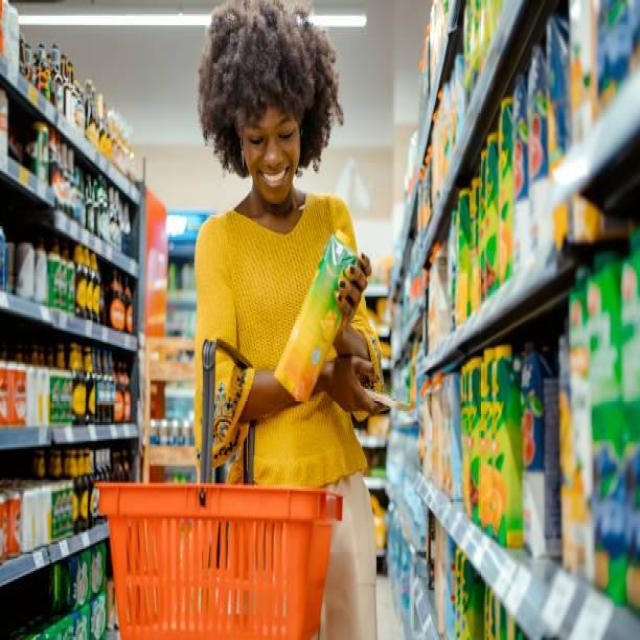article: (276, 231, 357, 400)
hands: (334, 254, 371, 355), (317, 356, 378, 409)
person: (196, 0, 382, 637)
